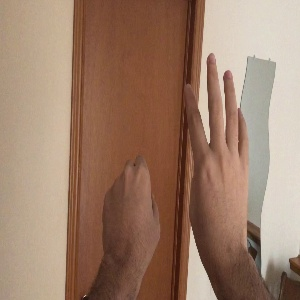hand: (184, 53, 249, 243), (103, 155, 161, 261)
